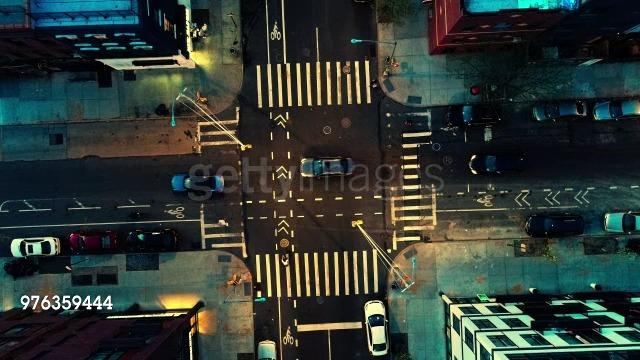car: (361, 296, 394, 358), (462, 149, 534, 177), (524, 211, 588, 239), (444, 102, 504, 128), (298, 154, 357, 180), (166, 172, 228, 195), (124, 228, 180, 253), (530, 98, 588, 122), (65, 230, 121, 254), (8, 236, 64, 258), (592, 98, 640, 120), (604, 210, 640, 236), (254, 336, 282, 360)
